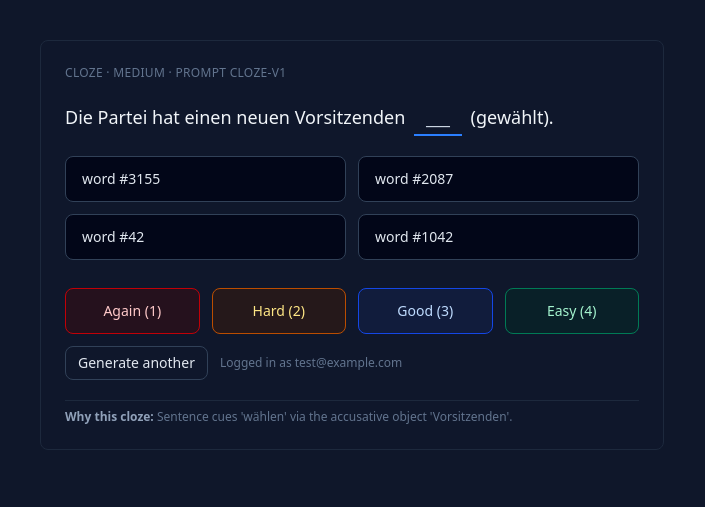
Test case: ClozePage › re-fetches when "Generate another" is clicked
The image size is (705, 507).
Click the button with test id "cloze-generate-another" at (136, 363), box [65,346,208,380]
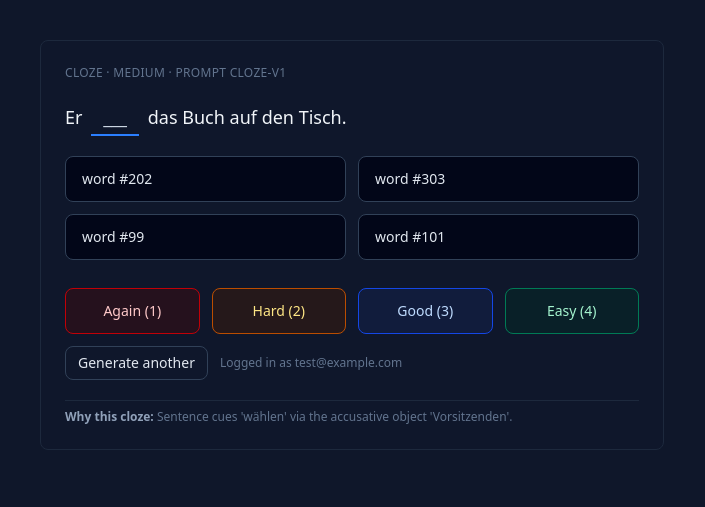
Now the button with test id "cloze-choice-99" is shown, box [65,214,346,260]
